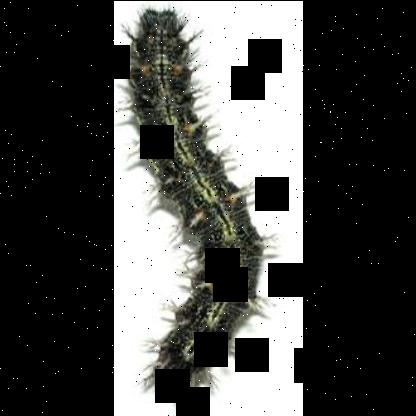oruga: (126, 6, 280, 404)
